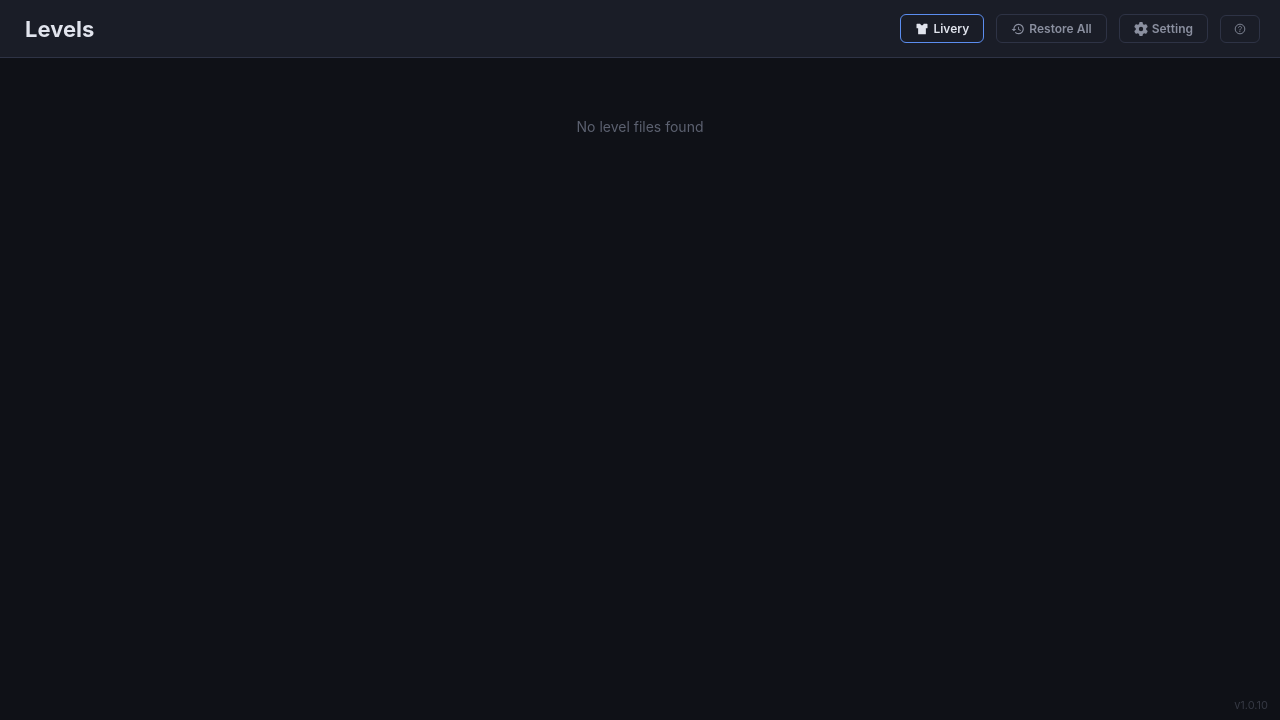
it: Help Button › Escape closes the help overlay
The width and height of the screenshot is (1280, 720).
Expected: the text "Levels" is shown, [25,16,94,42]
# Open the overlay
Click the button with class "btn-icon-only" at (1240, 28), box [1220,14,1260,42]
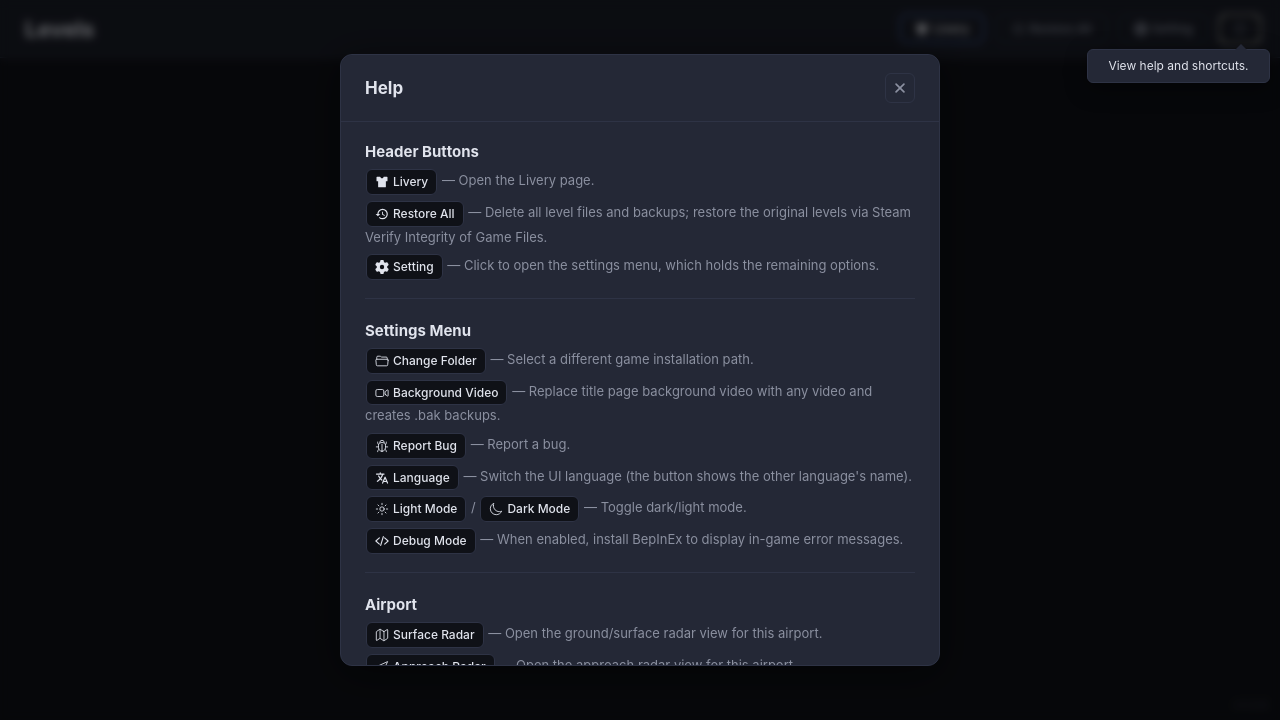
Expected: the heading "Header Buttons" is shown, [365,142,479,161]
# Close via Escape
Press Escape
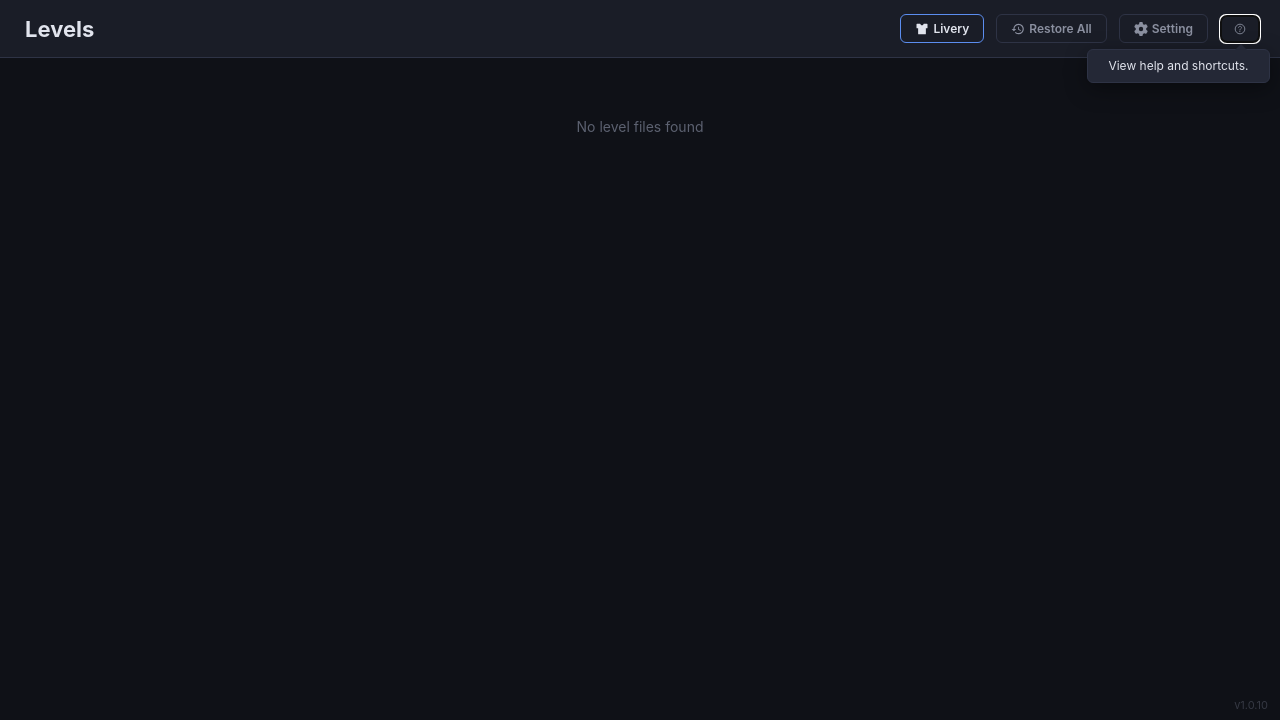
Expected: the heading "Header Buttons" is gone
